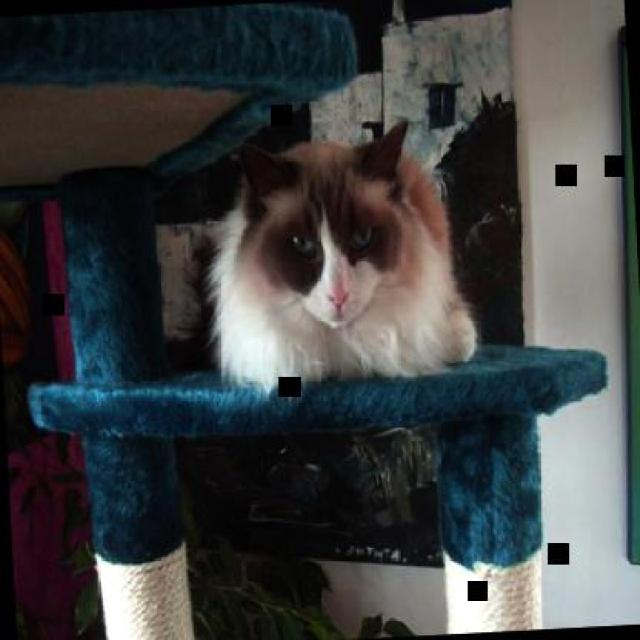cat: (200, 114, 478, 397)
